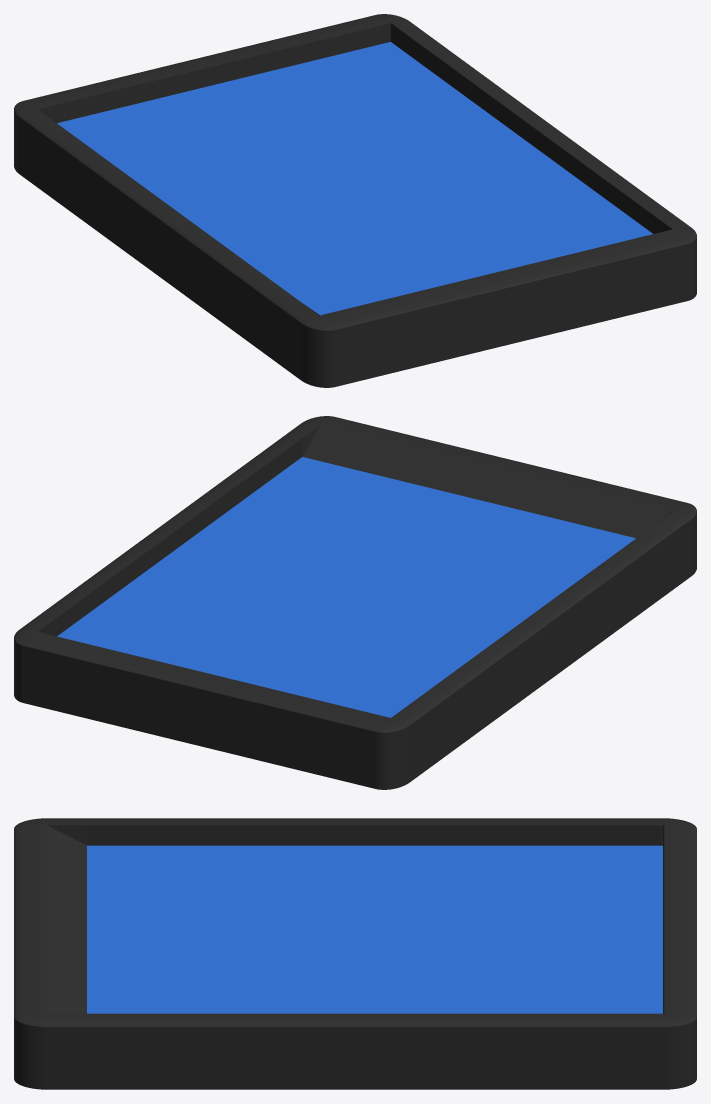
Rendered from Tablette.fbx.
3 views of the same model, one above another, from view 1: azimuth 30°, elevation 25°; view 2: azimuth 150°, elevation 25°; view 3: azimuth 270°, elevation 25° (orthographic). The views are drawn at different scales.
Visible parts, largest first — view 1: Cube; view 2: Cube; view 3: Cube.
Boxes of the visible parts, box(x1,y1,x2,y2) form: Cube: box(14, 14, 696, 387); Cube: box(14, 416, 696, 789); Cube: box(14, 818, 696, 1089).
Size of the model in its own units: 130 by 20 by 180.
